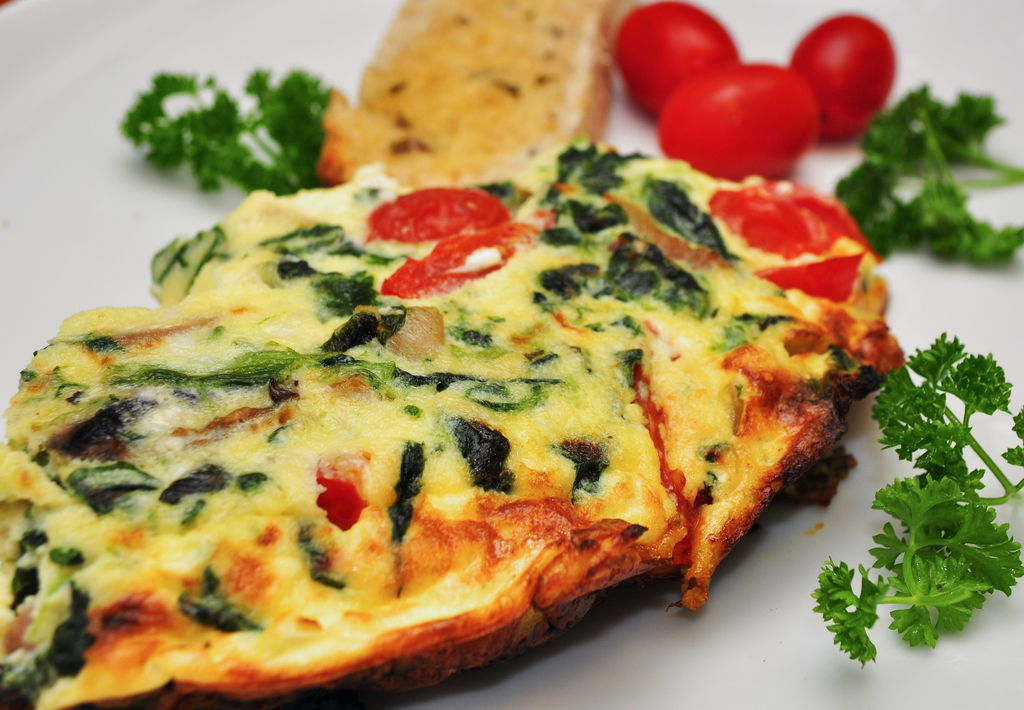Pizza: (6, 138, 931, 704)
